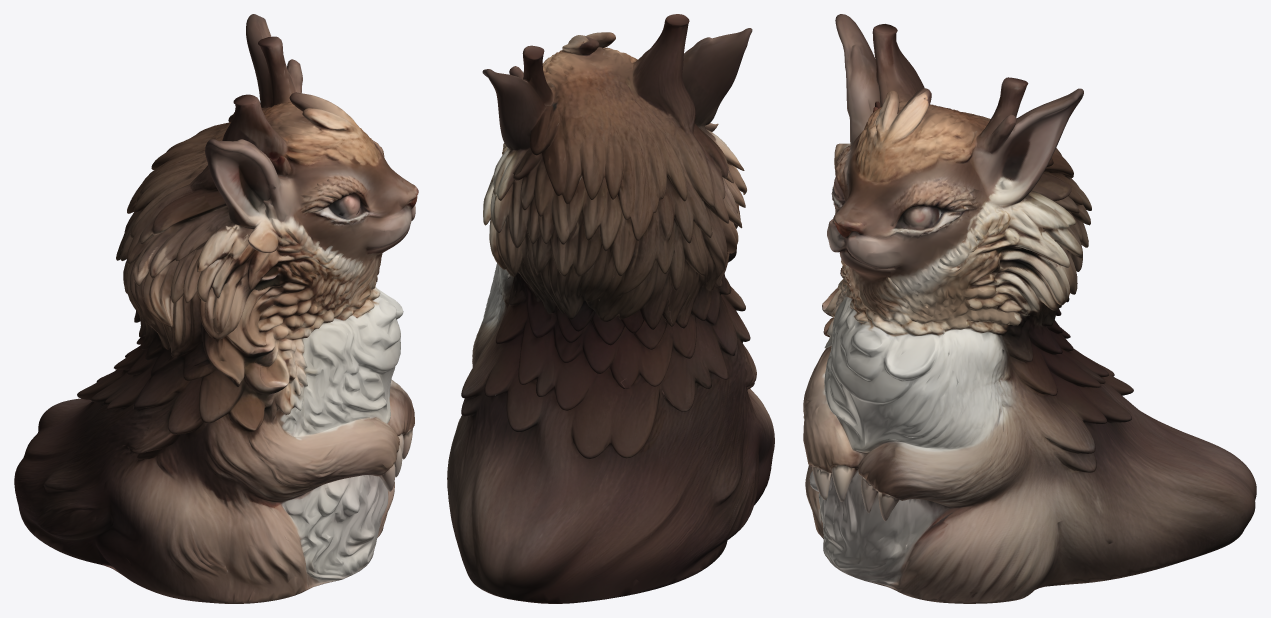
File: award-10.glb
The picture shows the model from 3 angles, left to right: view 1: azimuth 30°, elevation 25°; view 2: azimuth 150°, elevation 25°; view 3: azimuth 270°, elevation 25°; orthographic projection. The views are drawn at different scales.
Visible parts, largest first — view 1: node_0; view 2: node_0; view 3: node_0.
Boxes of the visible parts, x1,y1,x2,y2 form: node_0: (14, 14, 418, 603); node_0: (447, 14, 774, 603); node_0: (803, 14, 1256, 603).
Size of the model in its own units: 0.6334 by 0.9386 by 0.7811.
1 material, 1 textured.
